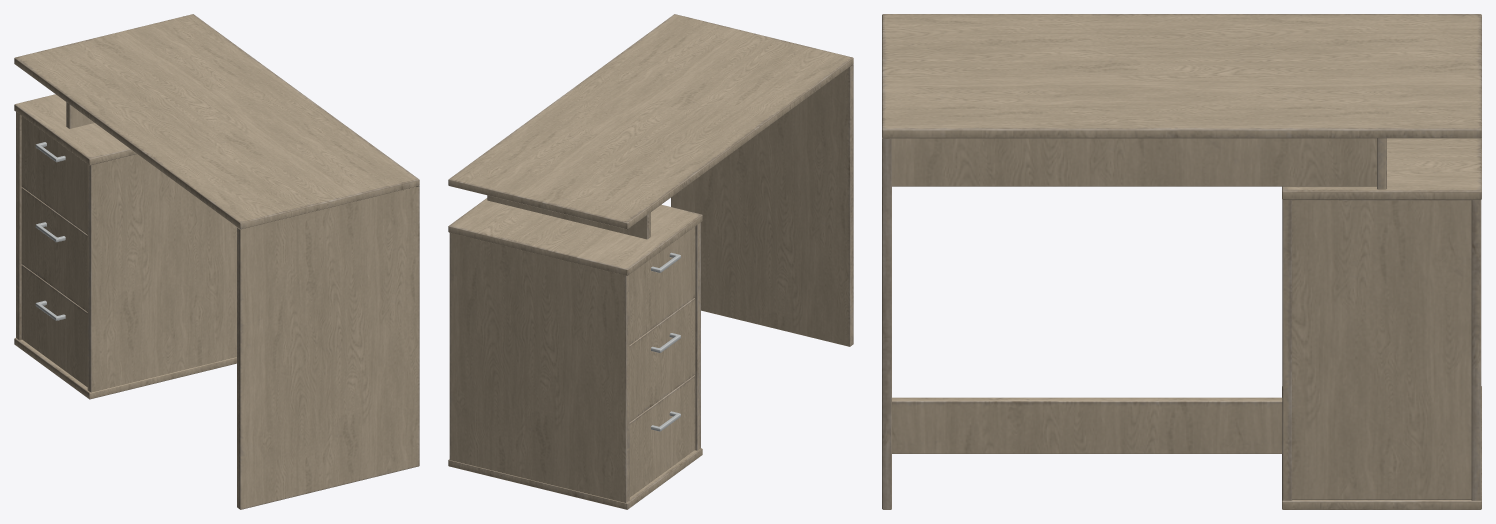
Rendered from desk.glb.
3 renders of one model, left to right at view 1: azimuth 30°, elevation 25°; view 2: azimuth 150°, elevation 25°; view 3: azimuth 270°, elevation 25°, orthographic. The views are drawn at different scales.
Parts seen in each view (by area): view 1: Desk; view 2: Desk; view 3: Desk.
Part boxes in pixels (x1=…): Desk: x1=14, y1=14, x2=419, y2=509; Desk: x1=448, y1=14, x2=853, y2=509; Desk: x1=882, y1=14, x2=1481, y2=509.
Bounding box in the file's own units: 56.77 × 84.02 × 120.
1 material, 1 textured.
